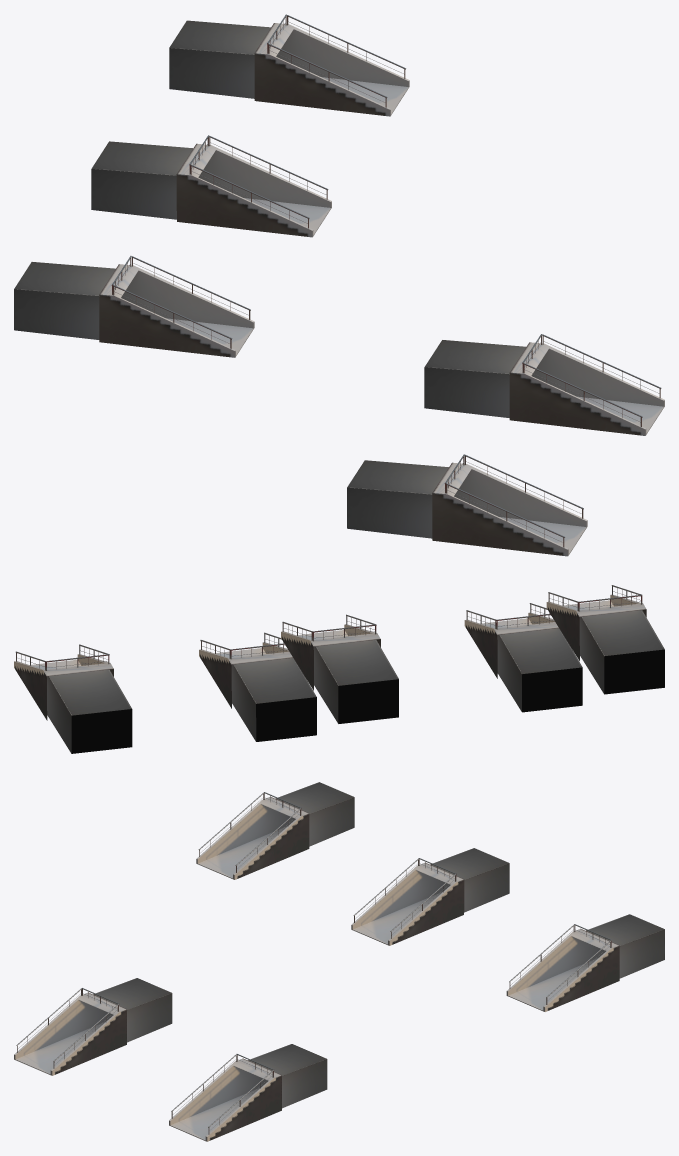
File: Entrance_Right.fbx
3 renders of one model, top to bottom at view 1: azimuth 30°, elevation 25°; view 2: azimuth 150°, elevation 25°; view 3: azimuth 270°, elevation 25°, orthographic. The views are drawn at different scales.
Visible parts, largest first — view 1: Entrance_Right; view 2: Entrance_Right; view 3: Entrance_Right.
Part boxes in pixels (x1,y1,x2,y2): Entrance_Right: (14, 14, 664, 556); Entrance_Right: (14, 585, 664, 753); Entrance_Right: (14, 782, 664, 1141).
Bounding box in the file's own units: 1599 × 581 × 2103.
1 material, 1 textured.
